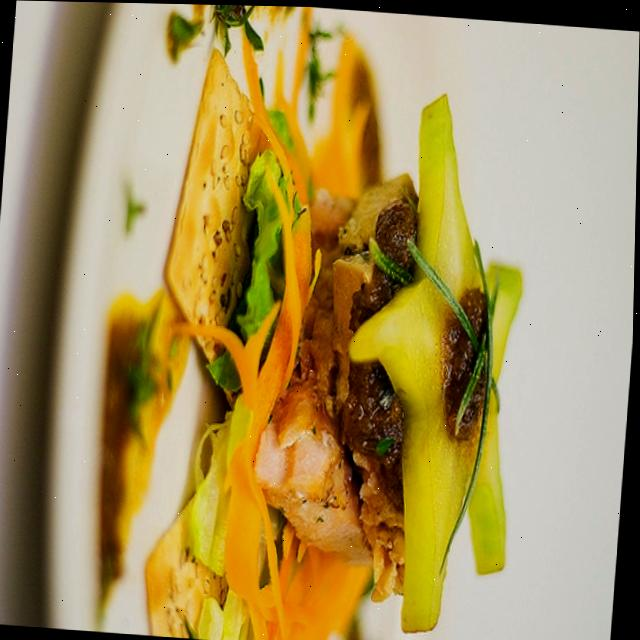熟制海鲜: (8, 0, 598, 640)
